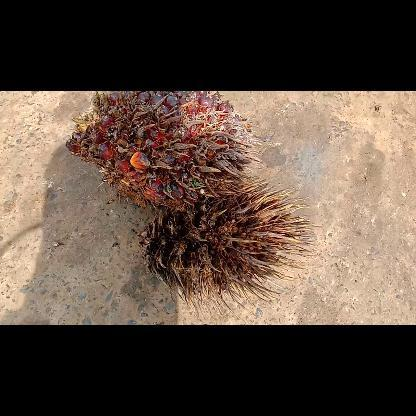Janjang kosong: (136, 180, 312, 324)
TBS masak: (66, 91, 260, 209)
